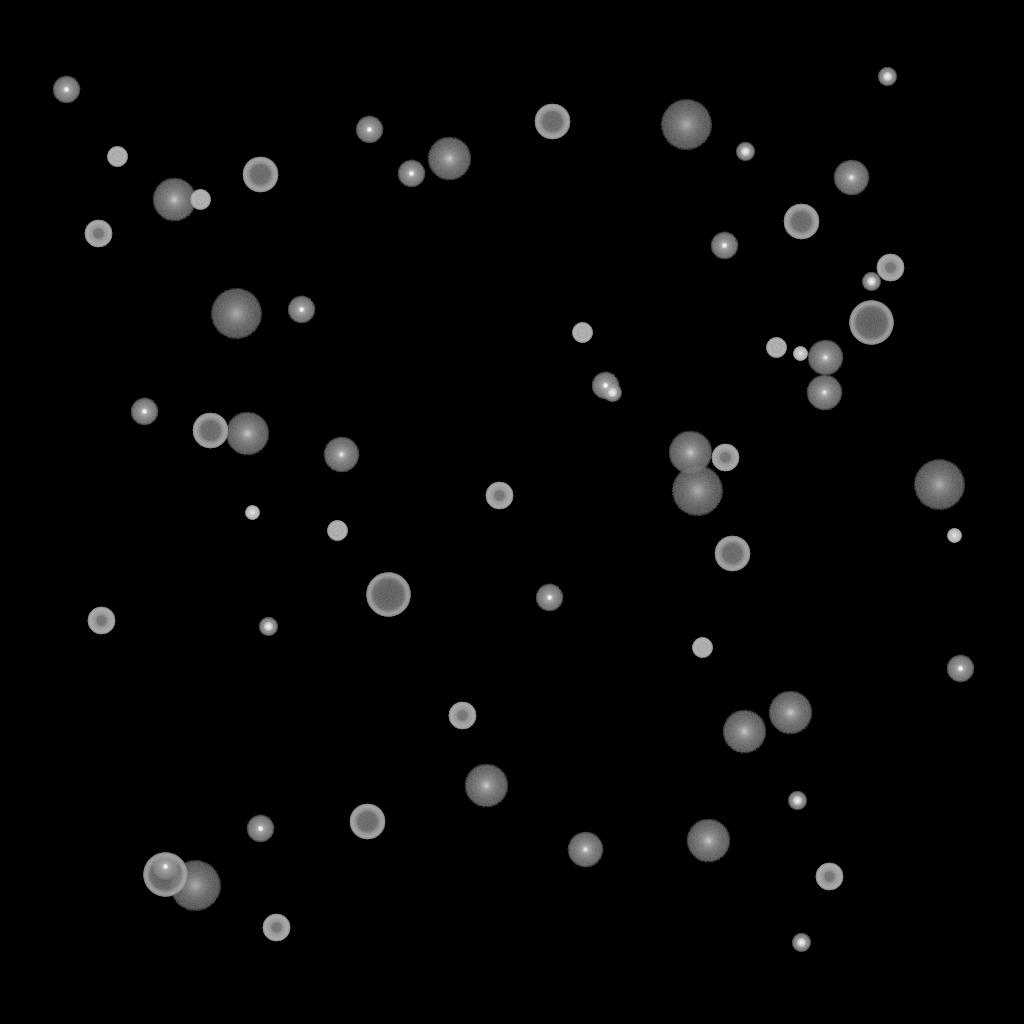depth:-10: (355, 116, 383, 144), (946, 655, 974, 683), (130, 398, 158, 426), (52, 76, 80, 104), (287, 296, 315, 324), (591, 372, 619, 400), (151, 853, 179, 881), (710, 232, 738, 260), (246, 815, 274, 843), (535, 584, 563, 612), (397, 160, 425, 188)
depth:-20: (603, 384, 621, 402), (792, 934, 810, 952), (878, 68, 896, 86), (788, 792, 806, 810), (259, 618, 277, 636), (736, 143, 754, 161), (862, 273, 880, 291)
depth:-30: (793, 347, 807, 361), (947, 529, 961, 543), (245, 506, 259, 520)
depth:-40: (766, 338, 786, 358), (107, 147, 127, 167), (572, 323, 592, 343), (327, 521, 347, 541), (190, 190, 210, 210), (692, 638, 712, 658)
depth:-50: (87, 607, 115, 635), (815, 863, 843, 891), (711, 444, 739, 472), (876, 254, 904, 282), (84, 220, 112, 248), (485, 482, 513, 510), (262, 914, 290, 942), (448, 702, 476, 730)
depth:-60: (714, 536, 750, 572), (534, 104, 570, 140), (242, 157, 278, 193), (192, 413, 228, 449), (349, 804, 385, 840), (783, 204, 819, 240)
depth:-70: (849, 301, 893, 345), (366, 573, 410, 617), (143, 853, 187, 897)
depth:0: (567, 832, 603, 868), (807, 340, 843, 376), (806, 375, 842, 411), (833, 160, 869, 196), (323, 437, 359, 473)
depth:10: (668, 431, 712, 475), (768, 691, 812, 735), (152, 178, 196, 222), (427, 137, 471, 181), (225, 412, 269, 456), (686, 819, 730, 863), (464, 764, 508, 808), (722, 710, 766, 754)
depth:20: (169, 861, 221, 911), (660, 100, 712, 150), (210, 289, 262, 339), (671, 466, 723, 516), (913, 460, 965, 510)
